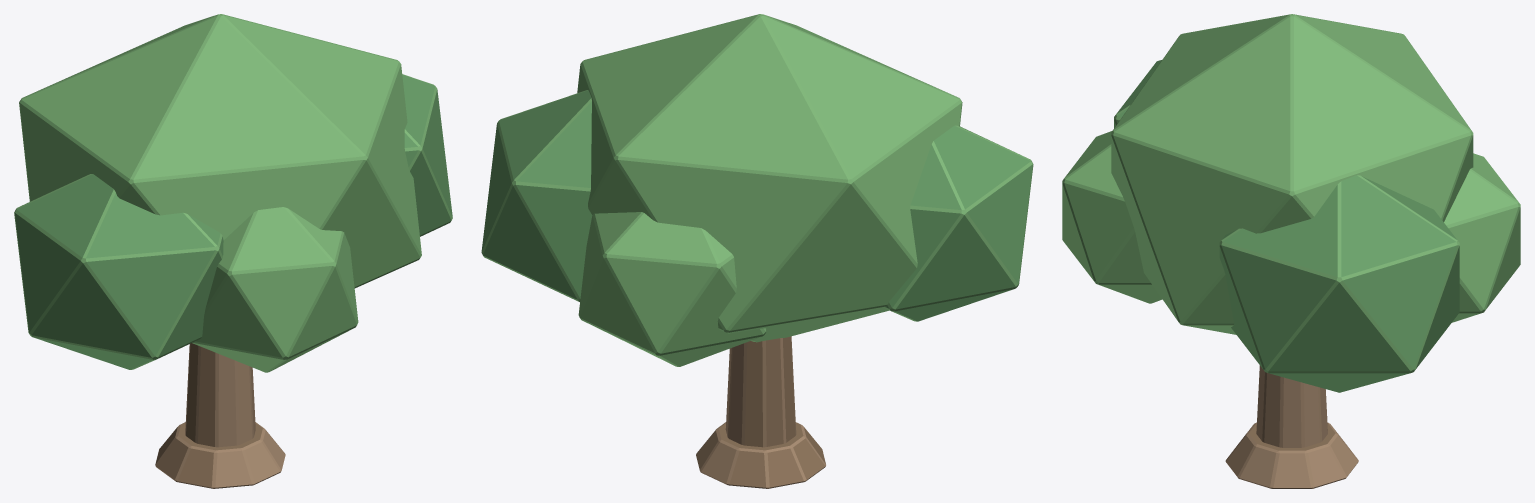
The model's file is 植被_公园树_01.fbx.
The picture shows the model from 3 angles, left to right: view 1: azimuth 30°, elevation 25°; view 2: azimuth 150°, elevation 25°; view 3: azimuth 270°, elevation 25°; orthographic projection.
Visible parts, largest first — view 1: 树冠.004, 树干.004; view 2: 树冠.004, 树干.004; view 3: 树冠.004, 树干.004.
Boxes of the visible parts, box(x1,y1,x2,y2) form: 树冠.004: box(14, 14, 452, 372); 树干.004: box(155, 343, 285, 488); 树冠.004: box(481, 14, 1033, 366); 树干.004: box(696, 336, 825, 488); 树冠.004: box(1062, 14, 1520, 392); 树干.004: box(1225, 365, 1358, 488).
Size of the model in its own units: 568 by 522 by 484.
